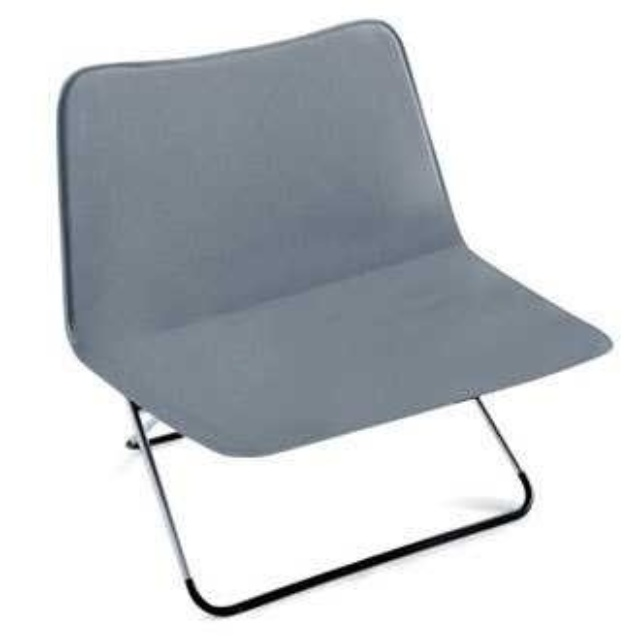obstacle: (58, 19, 609, 615)
